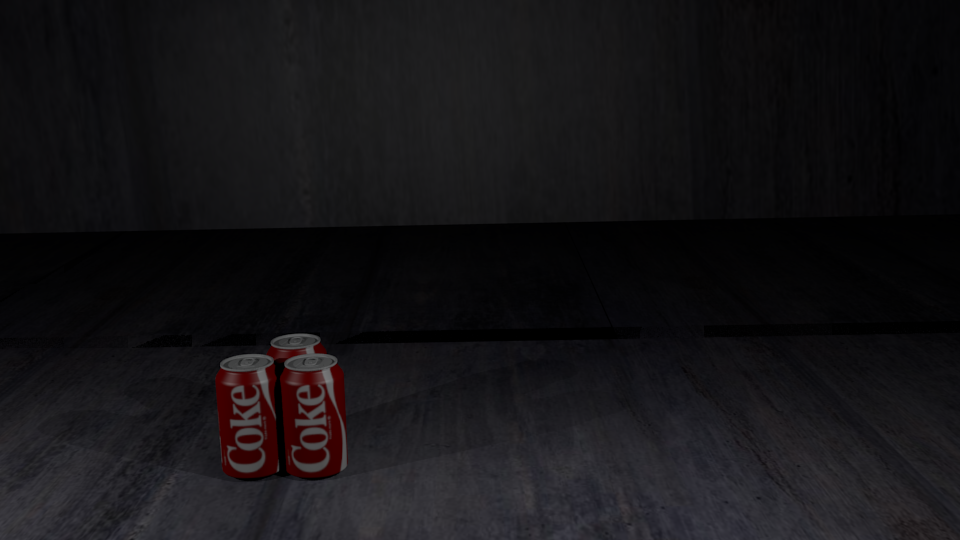cola_can: (215, 354, 282, 475), (280, 354, 345, 473), (266, 334, 325, 447)
